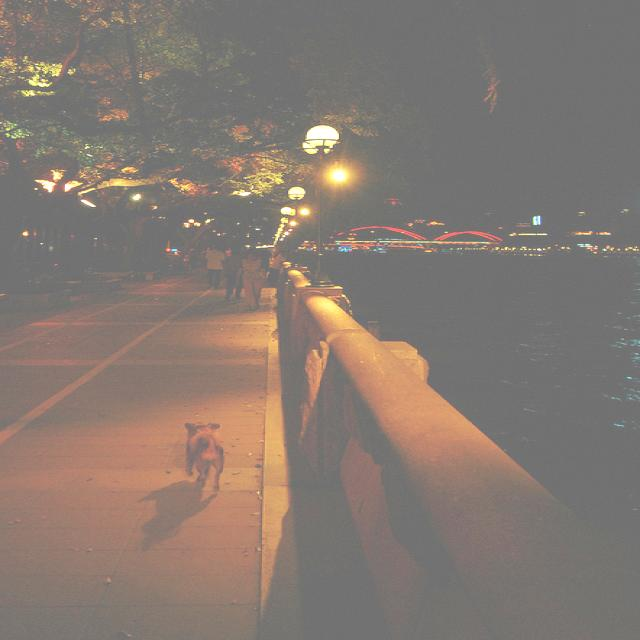Dog: (117, 389, 283, 522)
